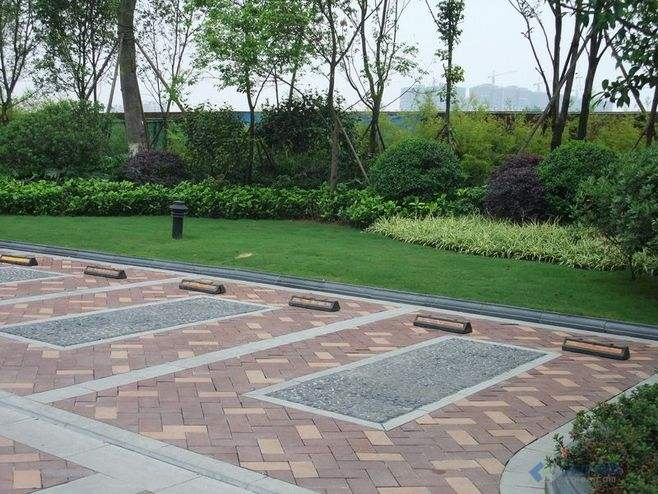slot_nocar: (25, 300, 658, 488), (6, 265, 432, 424)
